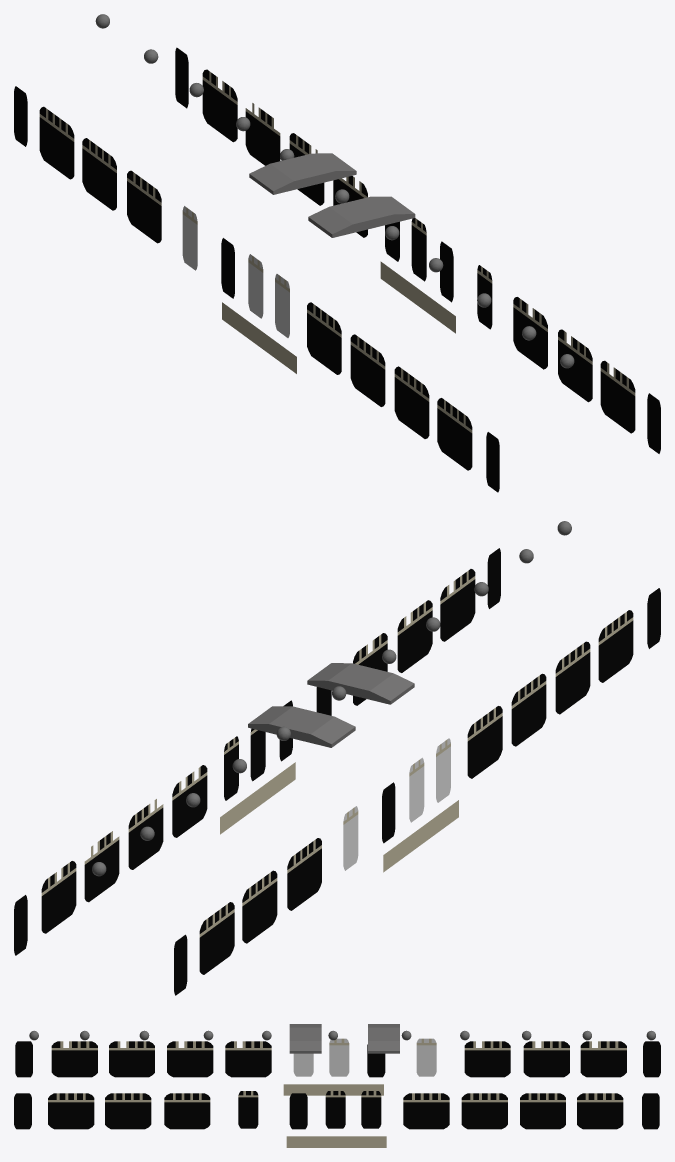
File: gwr-sunshine-restaurant-windows.dae
3 views of the same model, one above another, from view 1: azimuth 30°, elevation 25°; view 2: azimuth 150°, elevation 25°; view 3: azimuth 270°, elevation 25° (orthographic). The views are drawn at different scales.
Visible parts, largest first — view 1: Cube_019, Cube_018, Plane_322, Plane_323, Plane_297, Plane_328, Plane_331, Plane_329, Plane_327, Plane_321, Plane_335, Plane_330 (+16 smaller); view 2: Cube_019, Cube_018, Plane_321, Plane_322, Plane_323, Plane_327, Plane_328, Plane_297, Plane_331, Plane_335, Plane_329, Plane_332 (+16 smaller); view 3: Plane_337, Plane_330, Plane_331, Plane_332, Plane_335, Plane_336, Plane_342, Plane_321, Plane_322, Plane_323, Plane_327, Plane_329 (+18 smaller).
Boxes of the visible parts, x1=… form: Cube_019: x1=308, y1=196, x2=415, y2=237; Cube_018: x1=249, y1=153, x2=356, y2=194; Plane_322: x1=350, y1=334, x2=385, y2=406; Plane_323: x1=437, y1=398, x2=472, y2=470; Plane_297: x1=394, y1=366, x2=429, y2=438; Plane_328: x1=39, y1=106, x2=74, y2=179; Plane_331: x1=600, y1=360, x2=635, y2=433; Plane_329: x1=127, y1=170, x2=161, y2=243; Plane_327: x1=82, y1=138, x2=116, y2=210; Plane_321: x1=307, y1=302, x2=341, y2=374; Plane_335: x1=202, y1=69, x2=237, y2=142; Plane_330: x1=513, y1=297, x2=547, y2=369; Cube_019: x1=307, y1=663, x2=414, y2=704; Cube_018: x1=248, y1=706, x2=355, y2=747; Plane_321: x1=467, y1=706, x2=502, y2=778; Plane_322: x1=511, y1=673, x2=546, y2=746; Plane_323: x1=598, y1=610, x2=633, y2=682; Plane_327: x1=242, y1=870, x2=277, y2=943; Plane_328: x1=199, y1=902, x2=234, y2=974; Plane_297: x1=555, y1=641, x2=590, y2=714; Plane_331: x1=440, y1=569, x2=475, y2=641; Plane_335: x1=41, y1=861, x2=76, y2=933; Plane_329: x1=287, y1=838, x2=321, y2=910; Plane_332: x1=397, y1=600, x2=432, y2=672; Plane_337: x1=403, y1=1093, x2=449, y2=1129; Plane_330: x1=164, y1=1093, x2=210, y2=1129; Plane_331: x1=48, y1=1093, x2=94, y2=1129; Plane_332: x1=105, y1=1093, x2=151, y2=1129; Plane_335: x1=577, y1=1093, x2=623, y2=1129; Plane_336: x1=461, y1=1093, x2=507, y2=1129; Plane_342: x1=520, y1=1093, x2=565, y2=1129; Plane_321: x1=225, y1=1041, x2=271, y2=1077; Plane_322: x1=167, y1=1041, x2=213, y2=1077; Plane_323: x1=51, y1=1041, x2=97, y2=1077; Plane_327: x1=523, y1=1041, x2=569, y2=1077; Plane_329: x1=464, y1=1041, x2=510, y2=1077.
Bounding box in the file's own units: 1.94 × 10.13 × 1.58.
